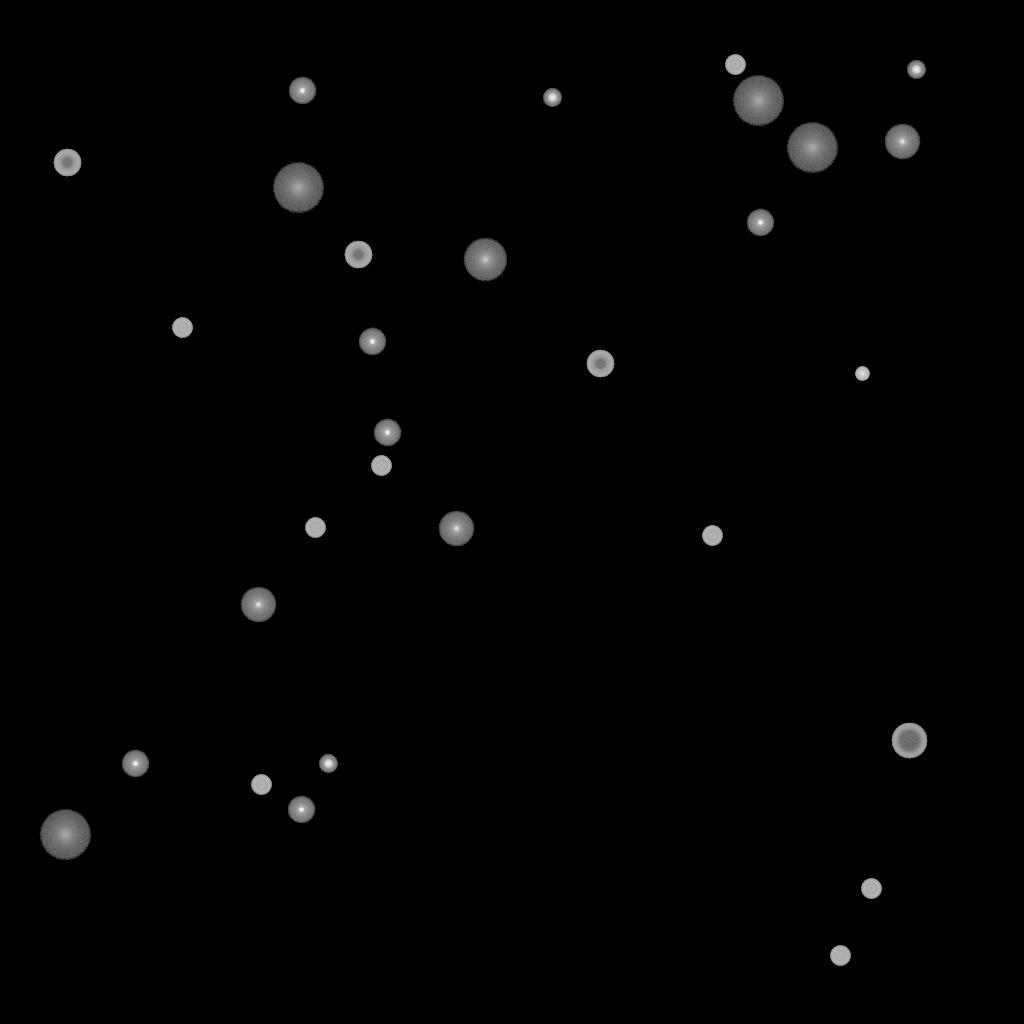depth:-10: (287, 796, 315, 824), (121, 750, 149, 778), (746, 209, 774, 237), (358, 328, 386, 356), (288, 77, 316, 105), (373, 419, 401, 447)
depth:-20: (543, 89, 561, 107), (319, 755, 337, 773), (907, 61, 925, 79)
depth:-30: (855, 367, 869, 381)
depth:-40: (830, 946, 850, 966), (305, 518, 325, 538), (172, 318, 192, 338), (371, 456, 391, 476), (702, 526, 722, 546), (725, 55, 745, 75), (861, 879, 881, 899), (251, 775, 271, 795)
depth:-50: (586, 350, 614, 378), (53, 149, 81, 177), (344, 241, 372, 269)
depth:-60: (891, 723, 927, 759)
depth:0: (438, 511, 474, 547), (240, 587, 276, 623), (884, 124, 920, 160)
depth:10: (463, 238, 507, 282)
depth:20: (732, 76, 784, 126), (786, 123, 838, 173), (272, 163, 324, 213), (39, 810, 91, 860)
